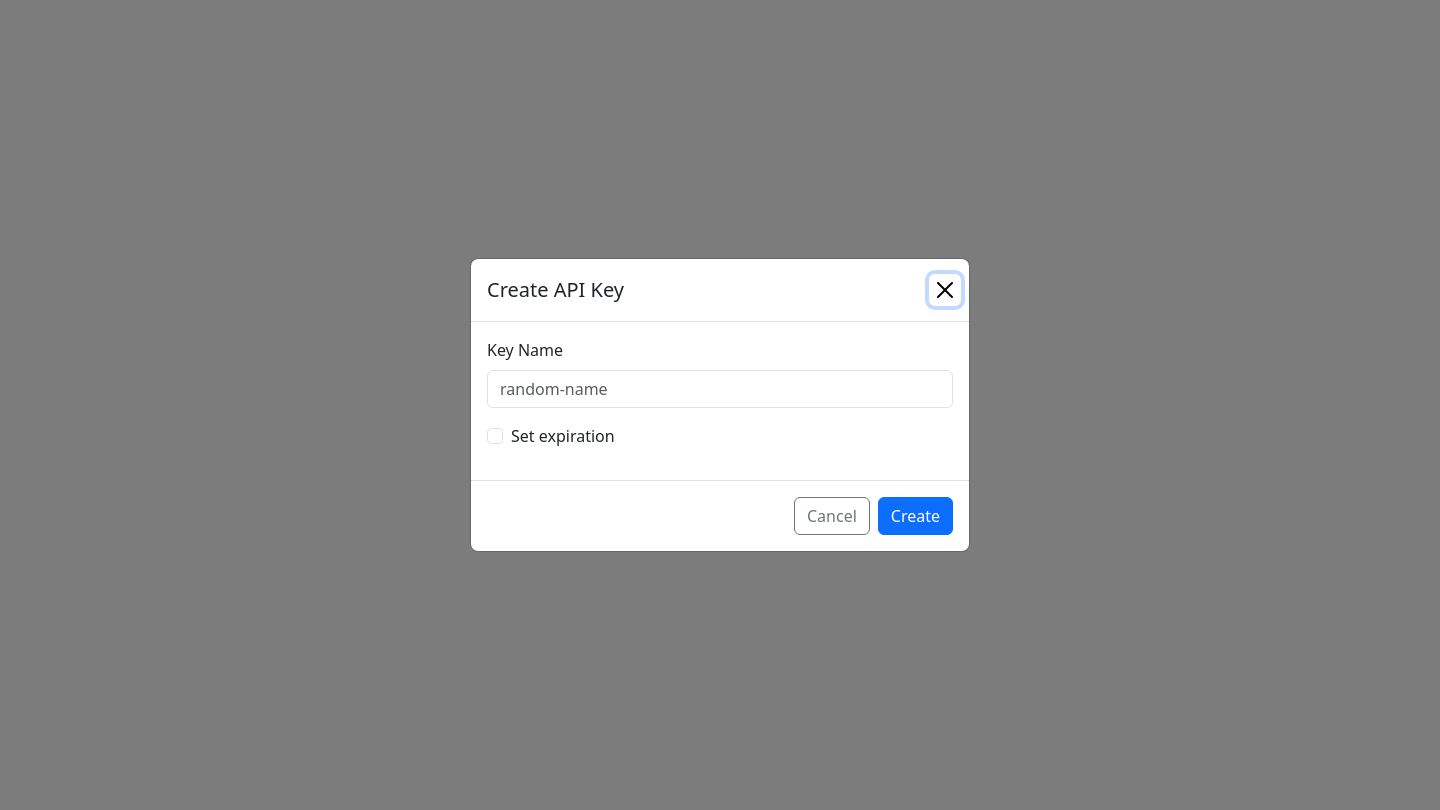
Test: CreateAPIKeyModal › shows expiry field when Set expiration is checked
Click the checkbox labelled "Set expiration" at [495, 436], box [487, 428, 503, 444]
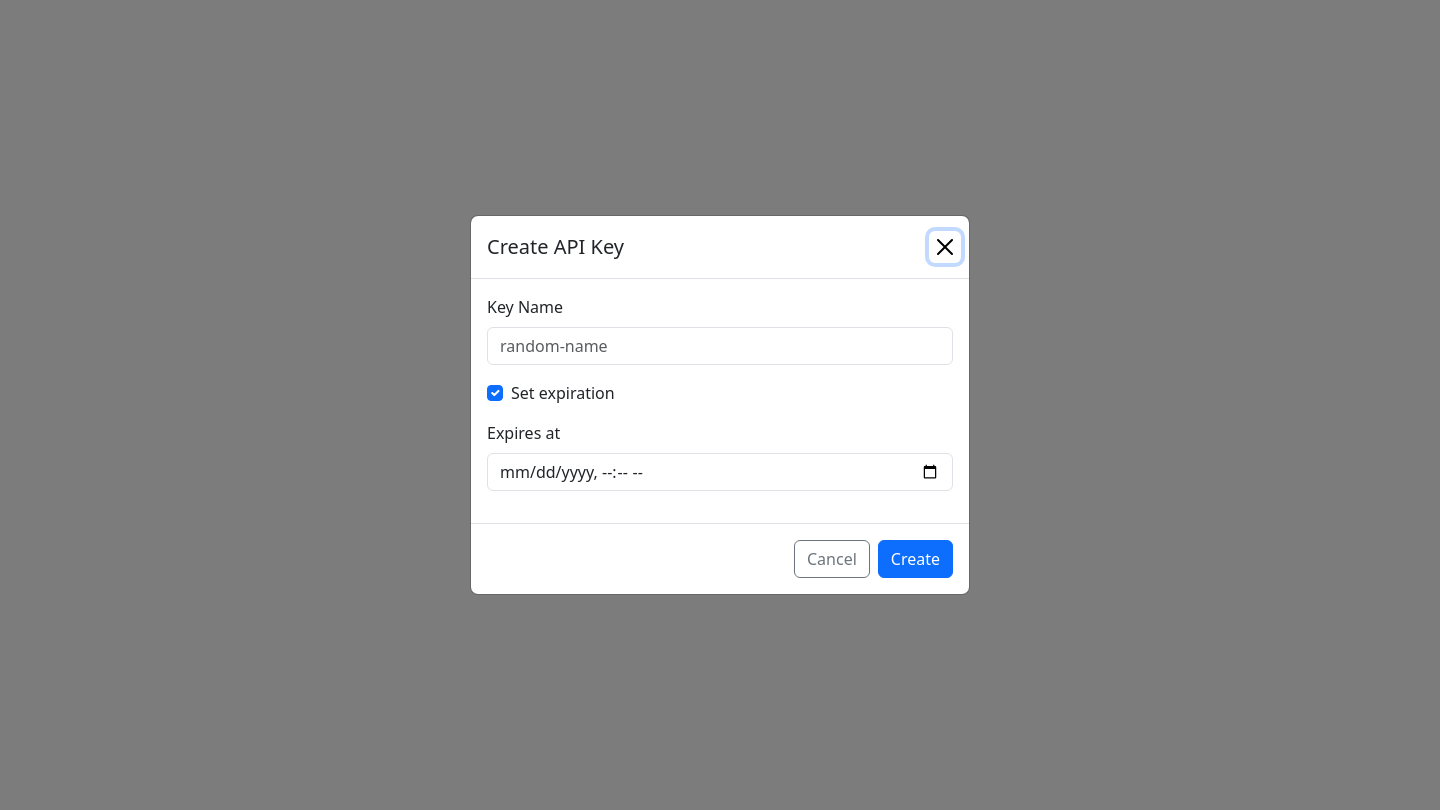
Expected: the field labelled "Expires at" is shown, [487, 453, 953, 491]
